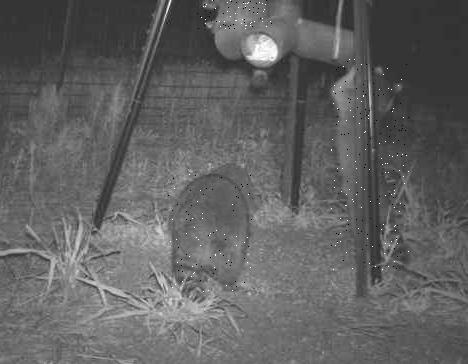Raccoon: (331, 59, 409, 270), (169, 174, 253, 295), (197, 0, 272, 29)
